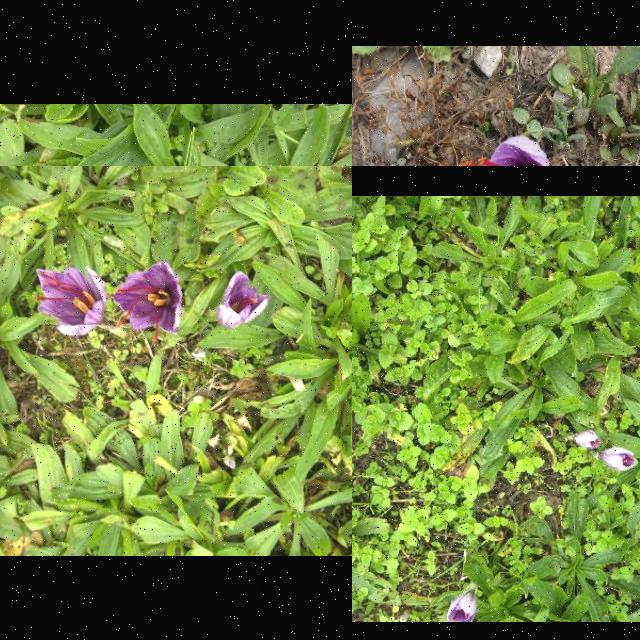flower: (109, 262, 183, 342), (36, 268, 108, 336), (458, 135, 563, 166), (219, 272, 271, 328), (446, 594, 478, 622), (602, 448, 638, 470), (574, 431, 602, 449)
